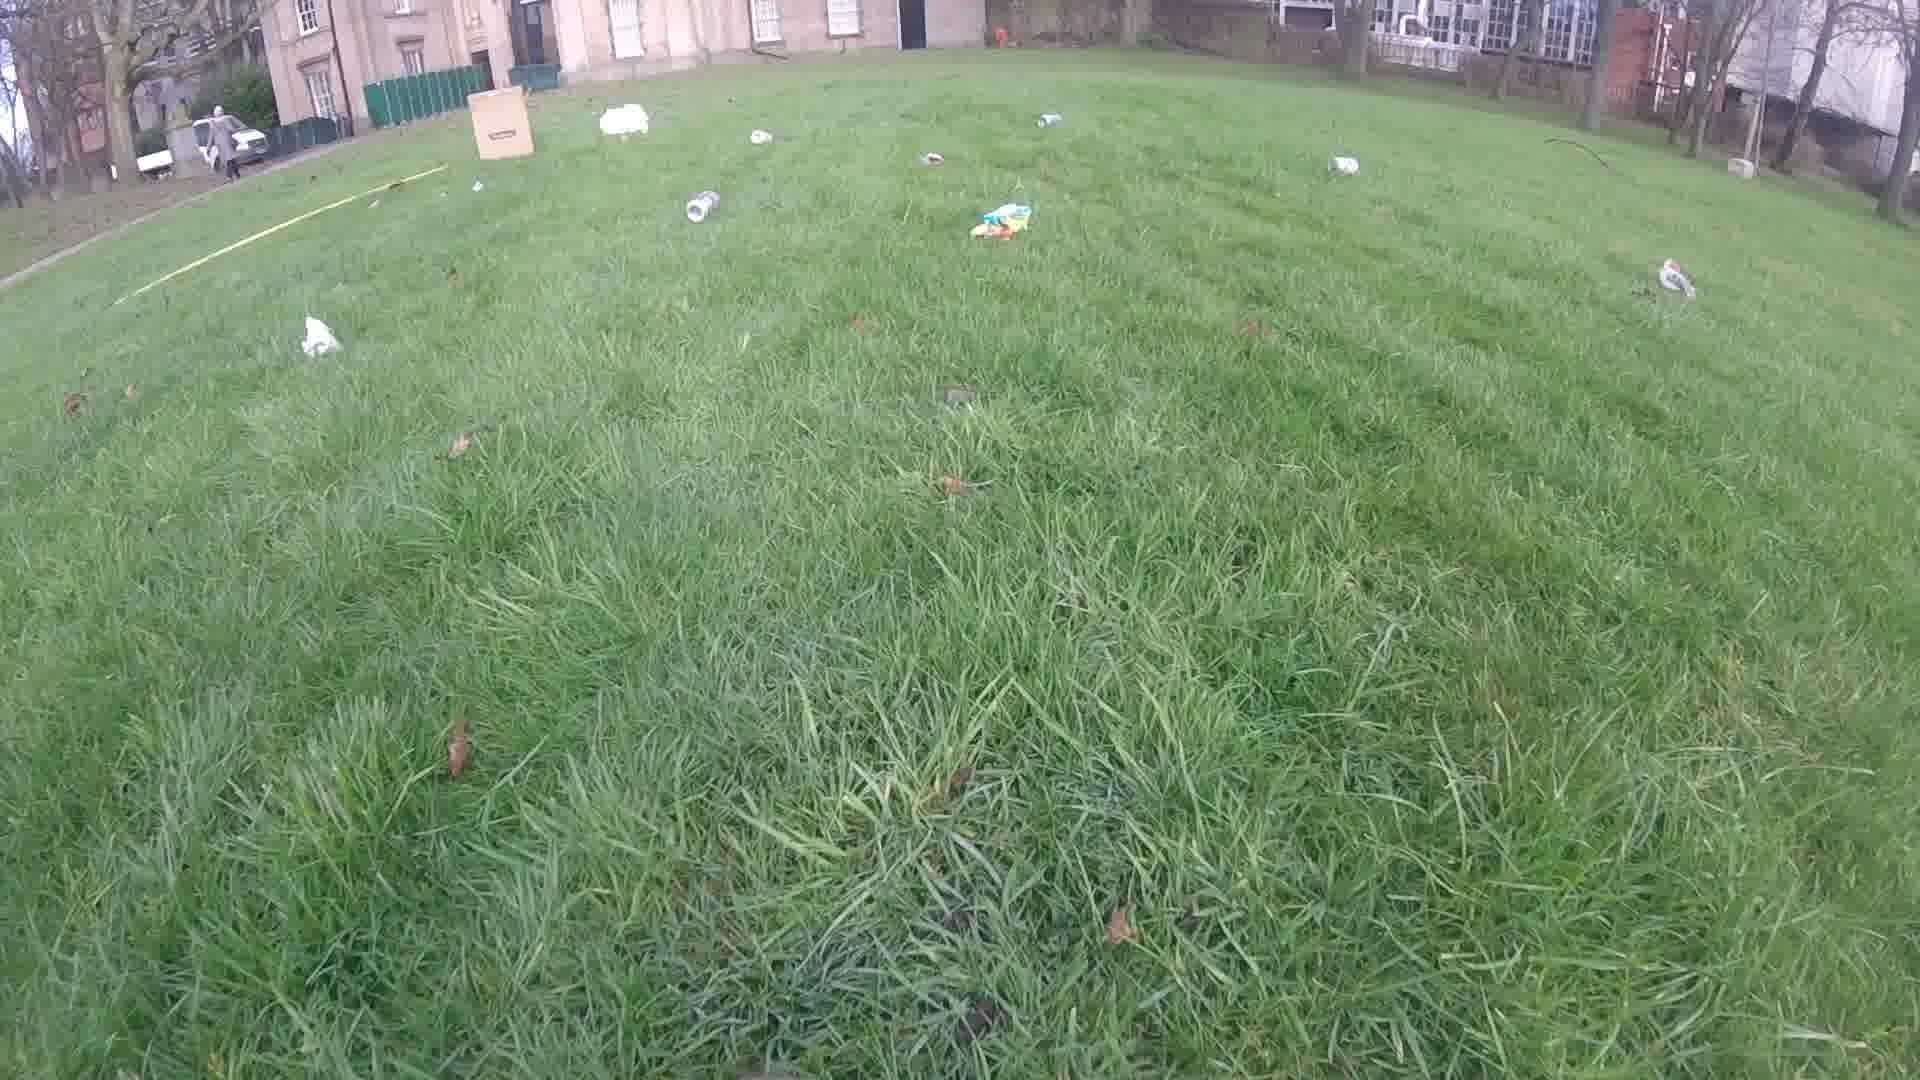litter: (467, 88, 533, 160), (971, 198, 1033, 241), (593, 103, 654, 135), (1658, 255, 1695, 299), (301, 314, 338, 353), (683, 189, 719, 224), (1327, 156, 1360, 179), (920, 150, 945, 165), (749, 128, 771, 144), (1039, 111, 1058, 128), (469, 179, 481, 191)
